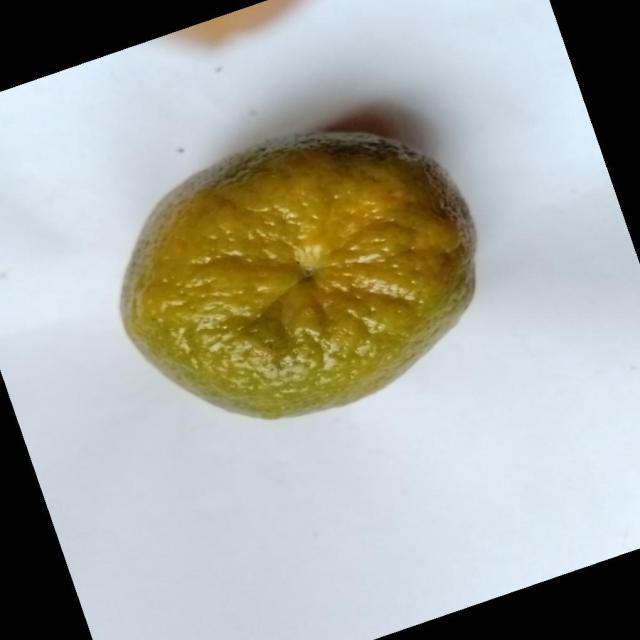fresh orange: (118, 130, 477, 420)
